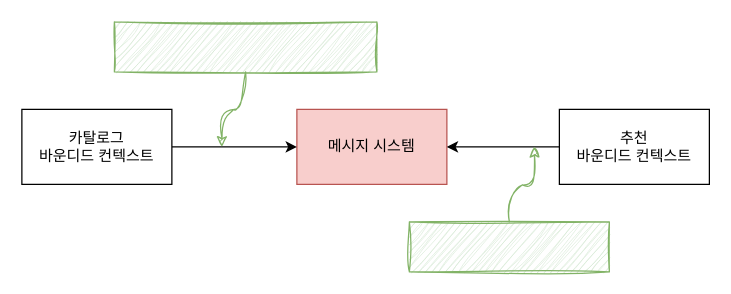
This 731x294 diagram has some shape labels left out. The shapes that lost their labels are listed below. From the top down, each one's box as (x1, y1, x2, y2) in pixels, then its label:
(113, 21, 377, 72): 사용자가 조회한 상품 이력이나 구매 이력을 메시지 형식으로 큐에 추가
(408, 221, 609, 272): 큐에서 메시지를 가져옴
